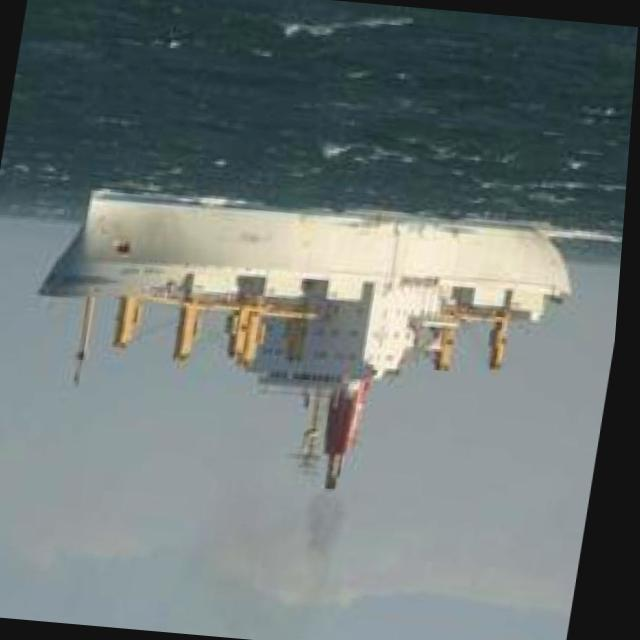ship2: (40, 186, 580, 489)
